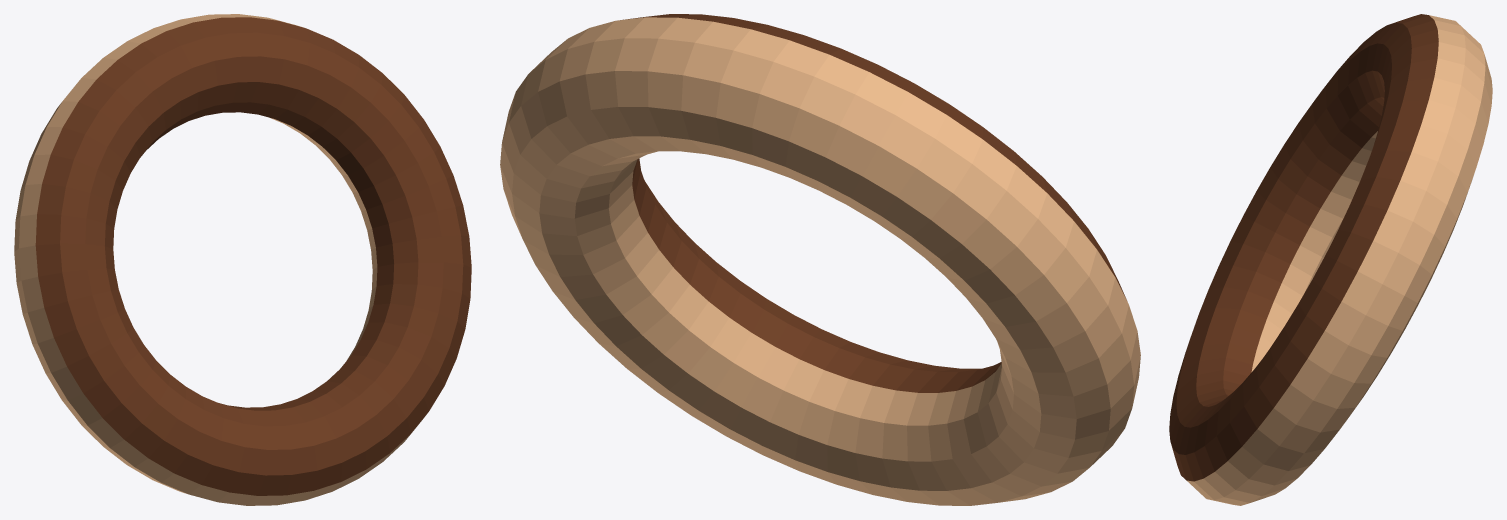
The model's file is drop_donuts.fbx.
The picture shows the model from 3 angles, left to right: view 1: azimuth 30°, elevation 25°; view 2: azimuth 150°, elevation 25°; view 3: azimuth 270°, elevation 25°; orthographic projection. The views are drawn at different scales.
Visible parts, largest first — view 1: Torus; view 2: Torus; view 3: Torus.
Part boxes in pixels (bbox=[...]): Torus: bbox=[14, 14, 471, 505]; Torus: bbox=[500, 14, 1140, 505]; Torus: bbox=[1169, 14, 1492, 505].
Size of the model in its own units: 171 by 152 by 102.
